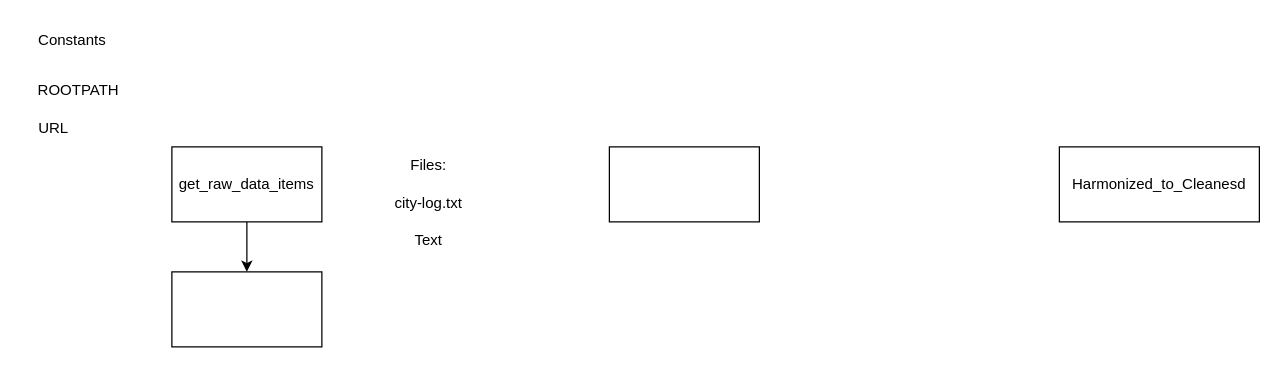
The diagram is 1281 pixels wide and 369 high, and some of its shapes have lost their labels. The shapes that lost their labels are listed below. From the top down, each one's box as (x1, y1, x2, y2) in pixels, then its label:
(608, 146, 759, 222): raw_to_harmonized
(171, 271, 322, 347): get_time
